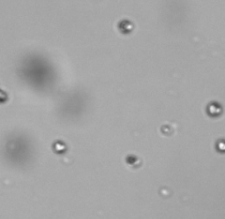Dead Cell: (126, 154, 143, 168), (116, 19, 134, 32), (161, 124, 173, 134), (1, 90, 6, 105)
Living Cell: (207, 102, 222, 117), (53, 139, 67, 155)
